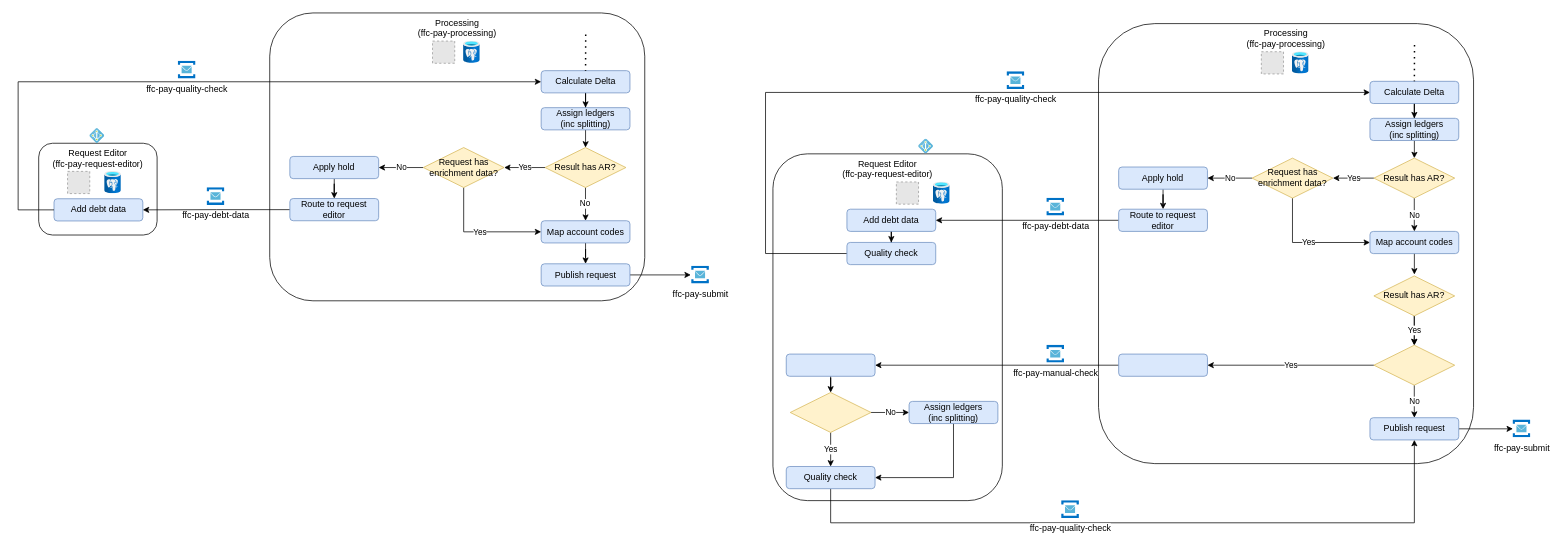
This 1562x547 diagram has some shape labels left out. Grey dashed boxes stand in for pictures. The shapes that lost their labels are listed below. From the top down, each one's centre as x and y in pixels, then its label:
At point (830, 364): "Review request".
At point (1162, 364): "Route to request editor (inc original)".
At point (1414, 364): "Manual route enabled?".
At point (830, 412): "Output is correct?".
